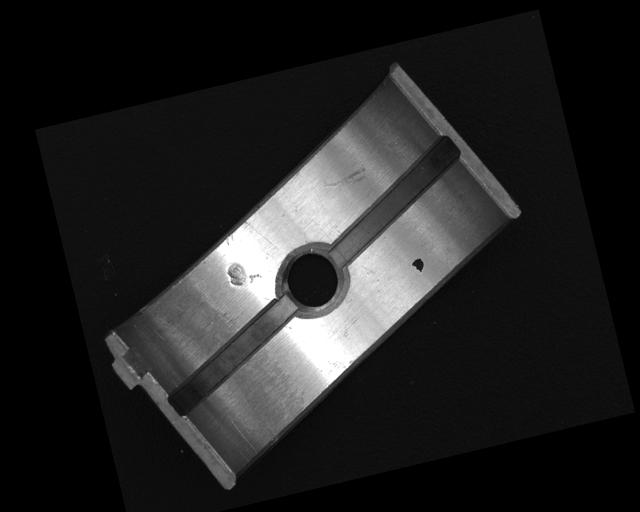blot: (410, 256, 425, 274)
bruise: (224, 256, 264, 290)
gap: (313, 134, 476, 267), (154, 296, 312, 416)
hole: (271, 238, 351, 323)
nick: (319, 165, 369, 192)
